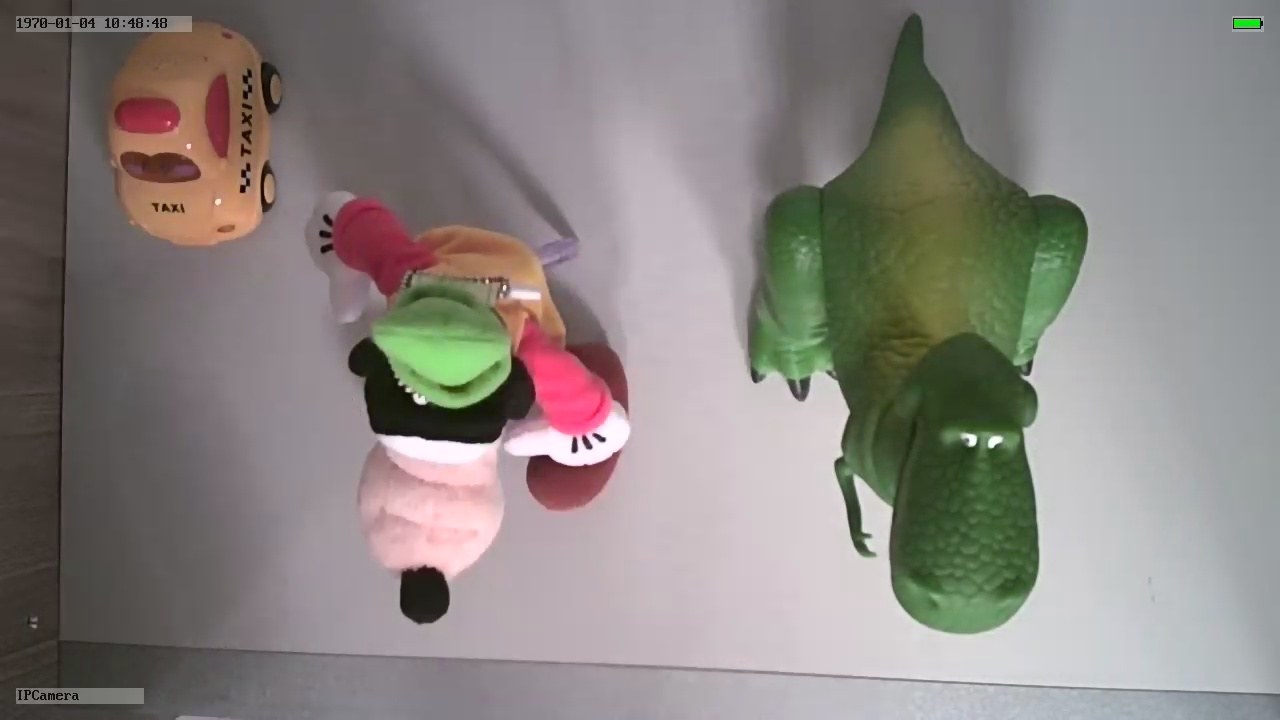car: (110, 21, 282, 249)
goofy: (304, 187, 631, 634)
rex: (745, 98, 1092, 638)
